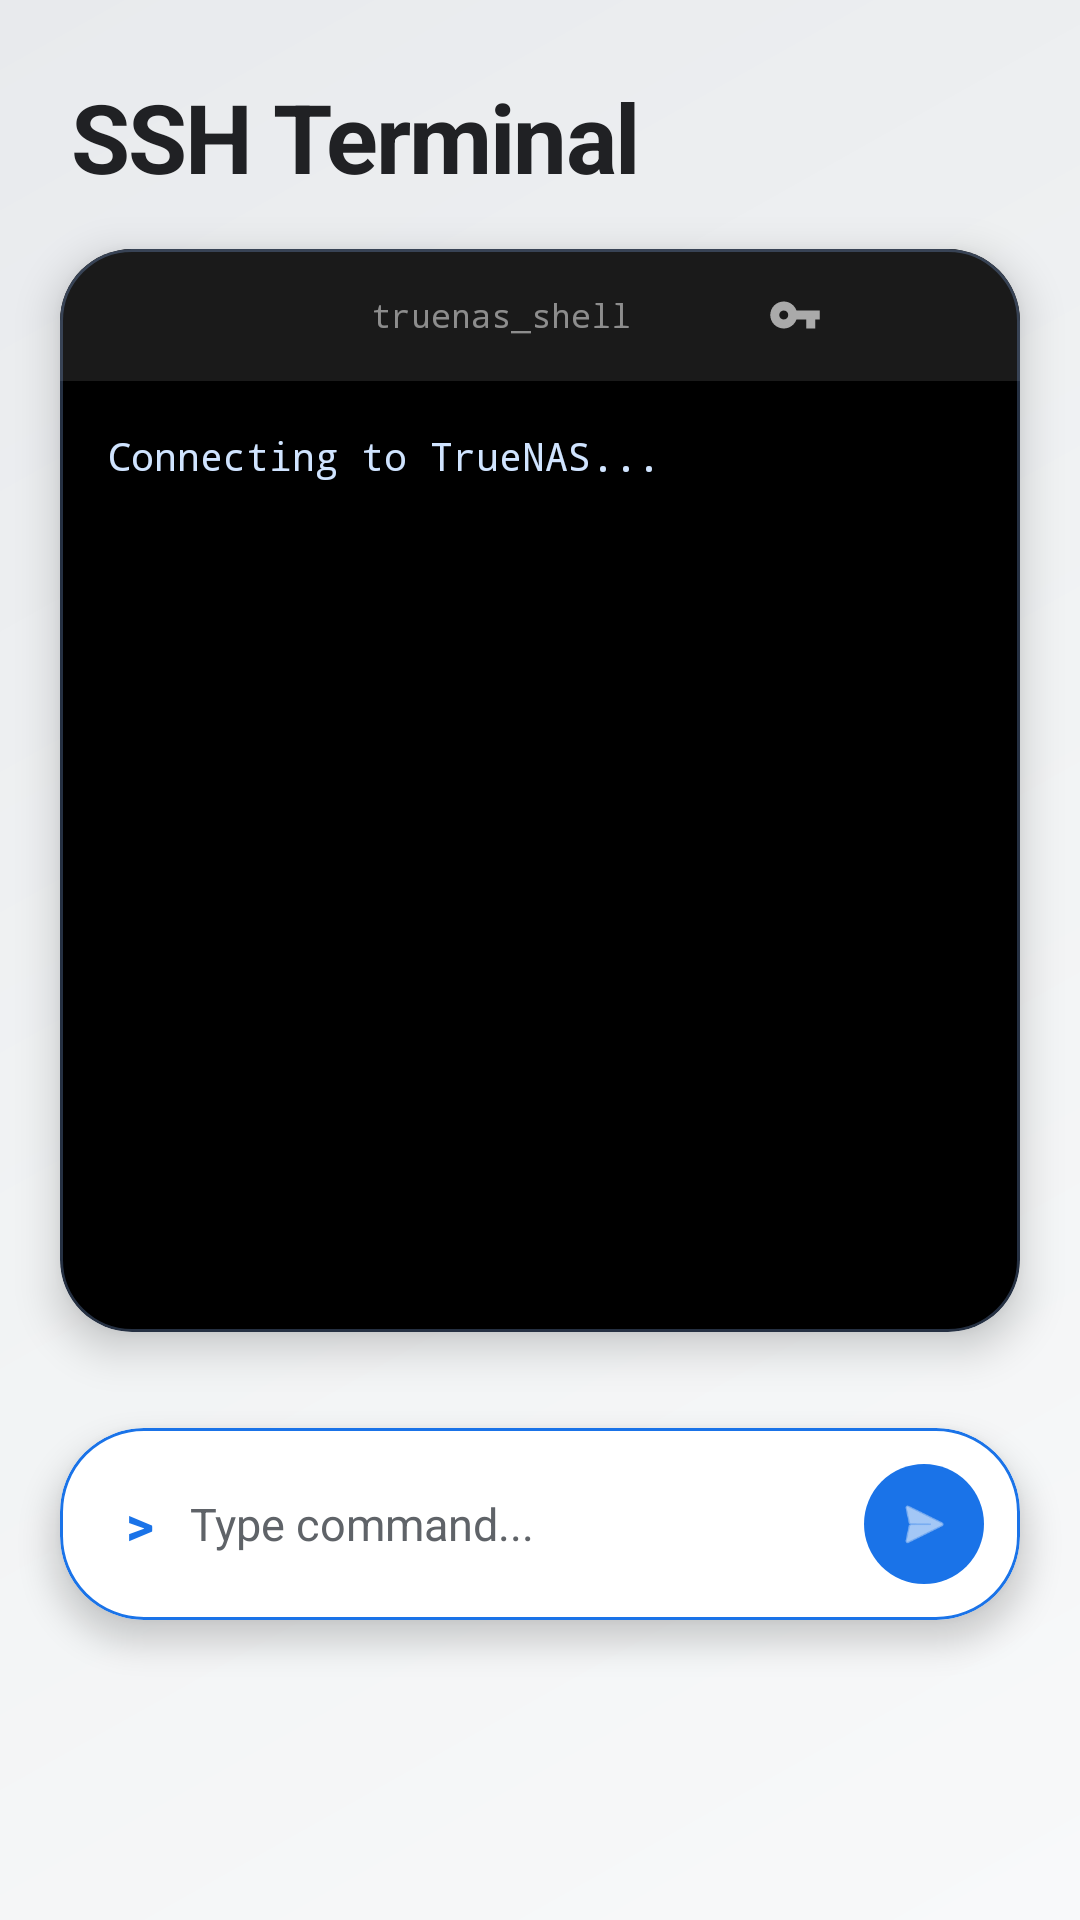

Icons on this 1080 x 1920 Android screen, each with its box as (x1, y1, x2, y2):
key: (770, 301, 820, 329)
send: (864, 1464, 984, 1584)
